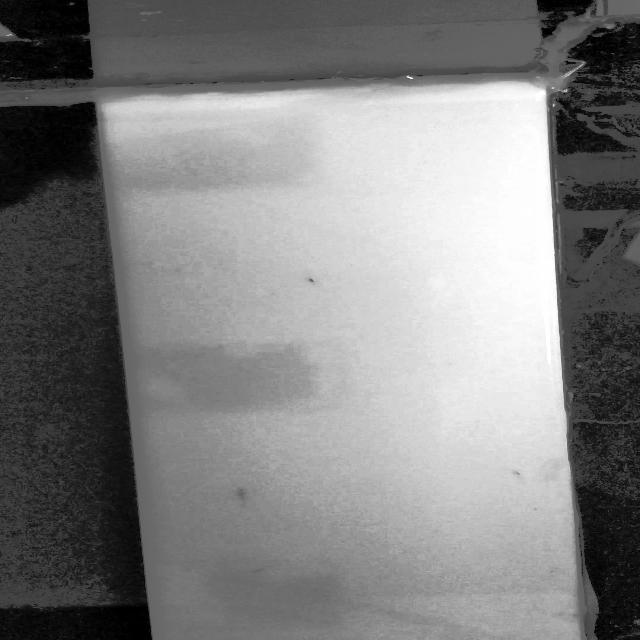shrimp: (506, 464, 528, 477), (247, 564, 270, 576), (235, 488, 251, 502), (307, 275, 319, 284)
